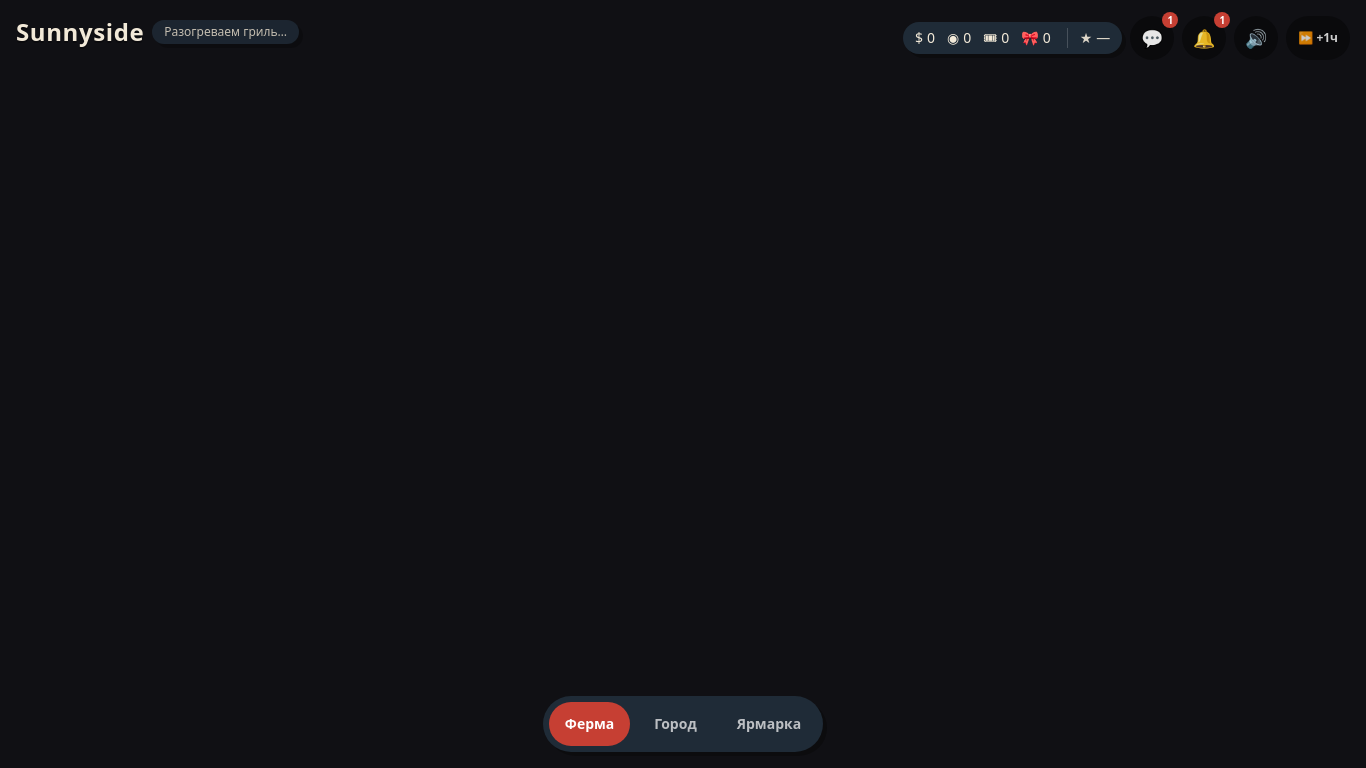
Test: HudRoot › колокол: бейдж показывает непрочитанные, клик открывает Notifications и снимает бейдж
Expected: the text with test id "notif-badge" reads "1", [1219,13,1225,27]
Click the button with test id "notif-bell" at (1204, 38), box [1182,16,1226,60]
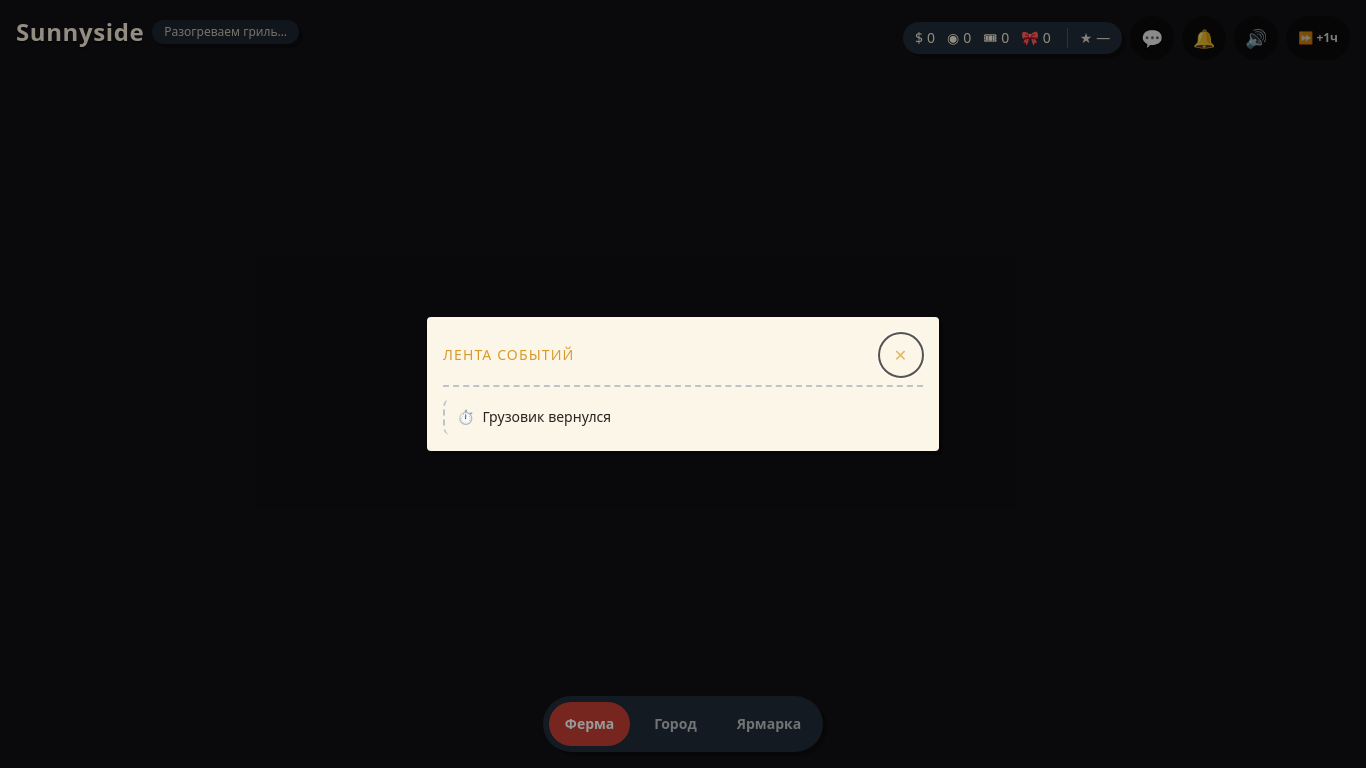
Expected: the element with test id "modal-ui_notif_log" is shown
Expected: the text "Грузовик вернулся" is shown, [482,407,611,427]
Expected: the text with test id "notif-badge" is gone
